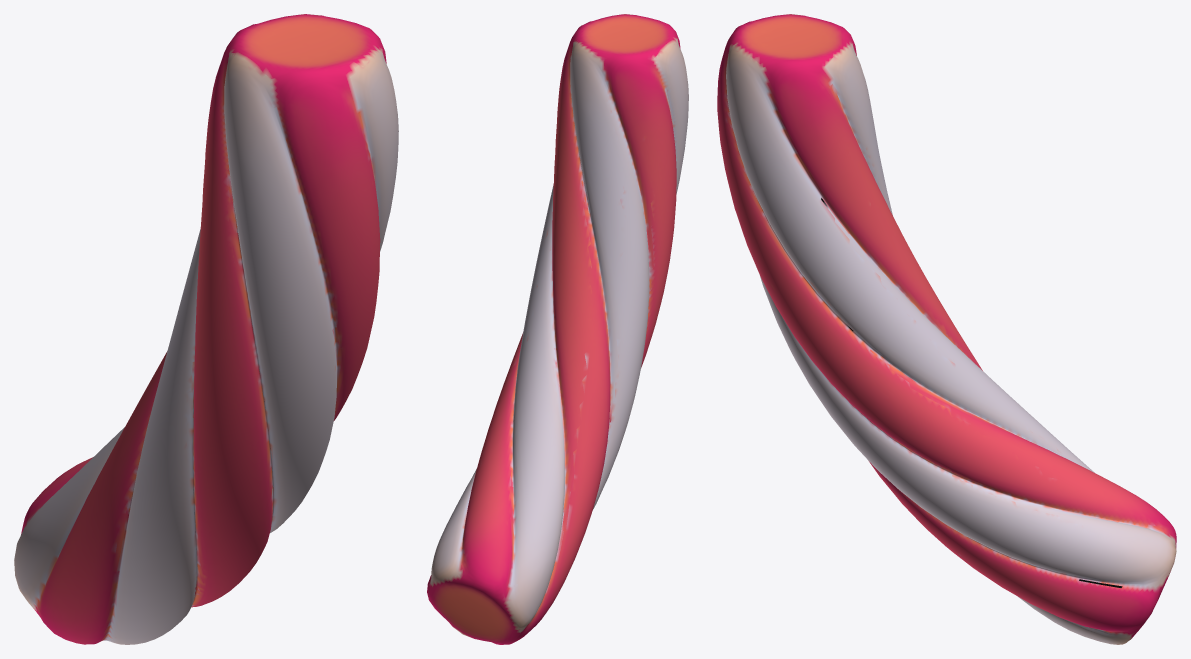
The model's file is twister_010.obj.
3 views of the same model, side by side, from view 1: azimuth 30°, elevation 25°; view 2: azimuth 150°, elevation 25°; view 3: azimuth 270°, elevation 25° (orthographic). The views are drawn at different scales.
Parts seen in each view (by area): view 1: twister.010; view 2: twister.010; view 3: twister.010.
Part boxes in pixels (x1,y1,x2,y2): twister.010: [14, 14, 398, 644]; twister.010: [427, 14, 688, 644]; twister.010: [717, 14, 1176, 644].
Bounding box in the file's own units: 0.8421 × 3.58 × 2.49.
1 material, 1 textured.
